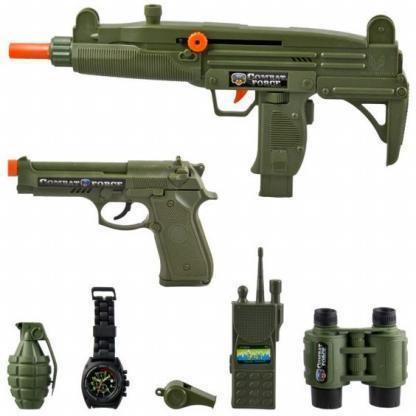Grenade: (6, 320, 59, 411)
Pistol: (4, 4, 409, 199), (7, 153, 219, 289)
